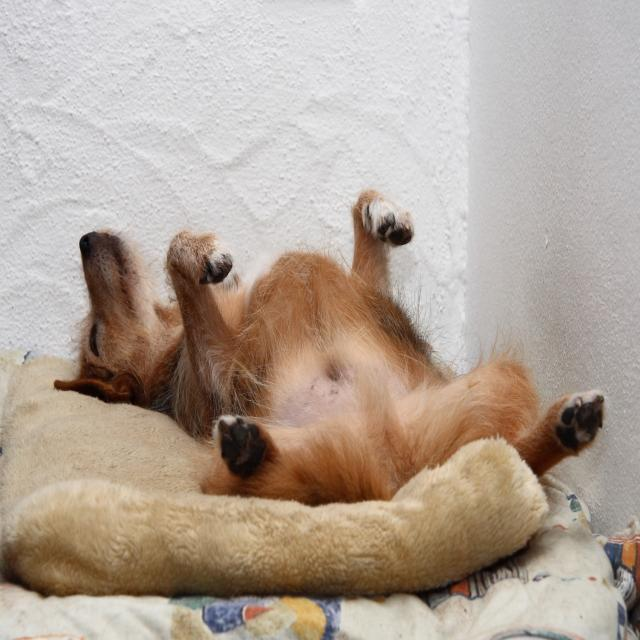laying down: (52, 186, 612, 513)
